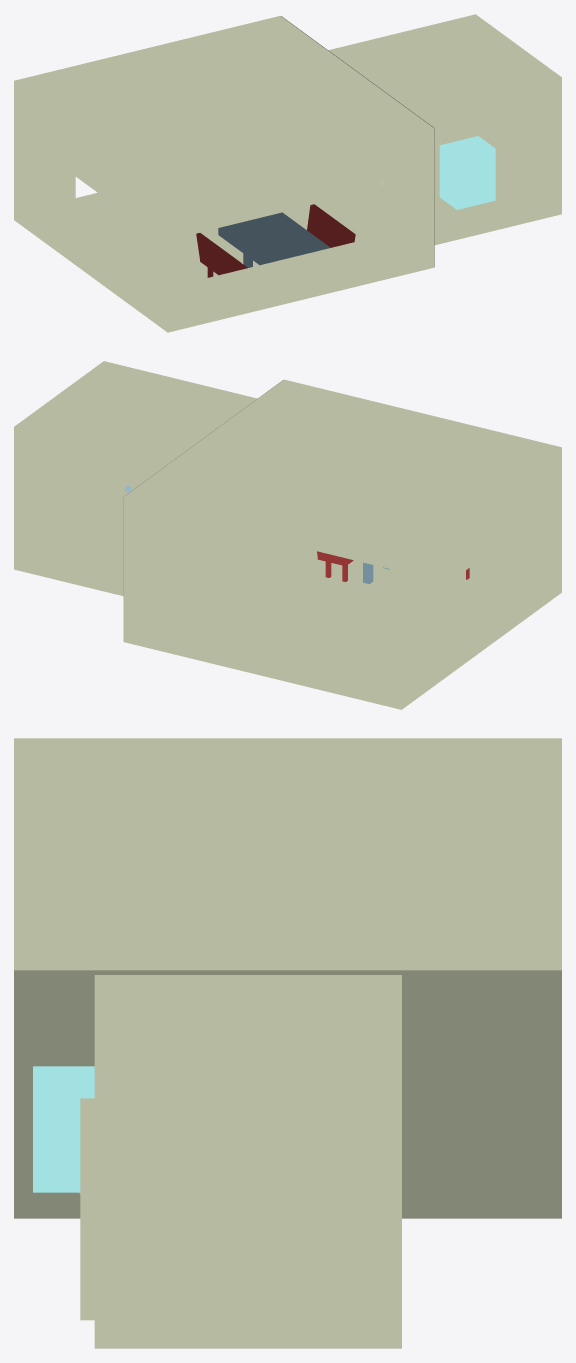
The model's file is cafe.dae.
The picture shows the model from 3 angles, top to bottom: view 1: azimuth 30°, elevation 25°; view 2: azimuth 150°, elevation 25°; view 3: azimuth 270°, elevation 25°; orthographic projection. The views are drawn at different scales.
Parts seen in each view (by area): view 1: Cube1-0, Cube7-0, Cube10-0, Cube9-0, grid3-0, grid4-0, grid4_copy5-0; view 2: Cube1-0, Cube7-0, Cube10-0, grid4-0; view 3: Cube1-0, Cube7-0, Cube1_extract12-0, Cube9-0, Cube10-0.
Boxes of the visible parts, x1,y1,x2,y2 form: Cube1-0: [14, 16, 434, 332]; Cube7-0: [328, 14, 561, 245]; Cube10-0: [487, 112, 557, 223]; Cube9-0: [439, 136, 495, 209]; grid3-0: [218, 212, 330, 267]; grid4-0: [307, 204, 355, 247]; grid4_copy5-0: [196, 233, 247, 277]; Cube1-0: [124, 379, 561, 709]; Cube7-0: [14, 361, 257, 596]; Cube10-0: [76, 443, 165, 530]; grid4-0: [317, 551, 353, 581]; Cube1-0: [14, 738, 561, 970]; Cube7-0: [94, 975, 401, 1348]; Cube1_extract12-0: [14, 970, 561, 1218]; Cube9-0: [33, 1066, 94, 1192]; Cube10-0: [80, 1098, 94, 1320].
Bounding box in the file's own units: 12.52 × 4 × 8.
